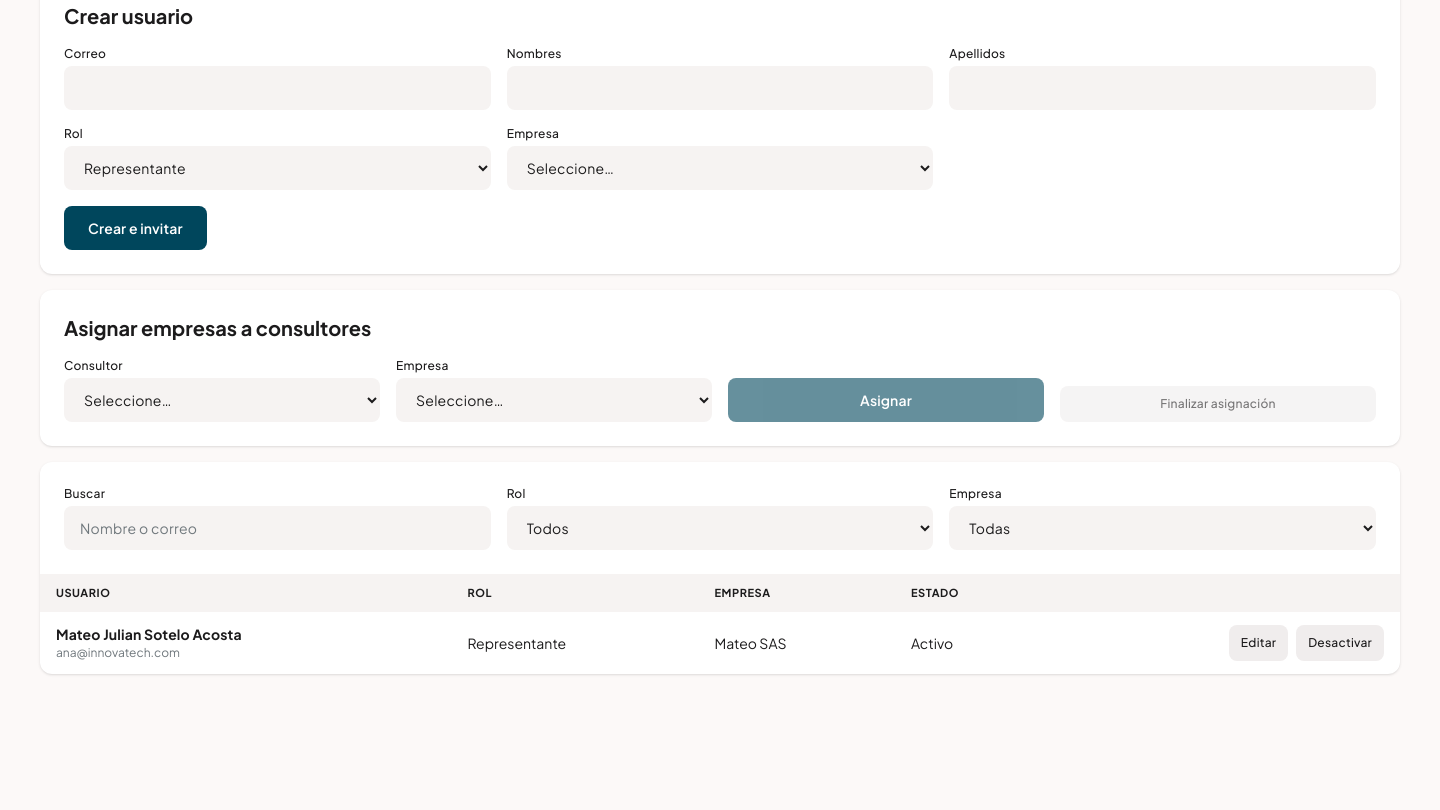
Test case: Edición de usuarios › abre un formulario propio con los datos actuales, sin cuadros del navegador
This screenshot has width=1440, height=810.
(page scrolled)
Expected: the text "Mateo Julian Sotelo Acosta" is shown, [56,625,242,643]
Click the button "Editar". click: (1259, 643)
box: [1229,625,1288,661]
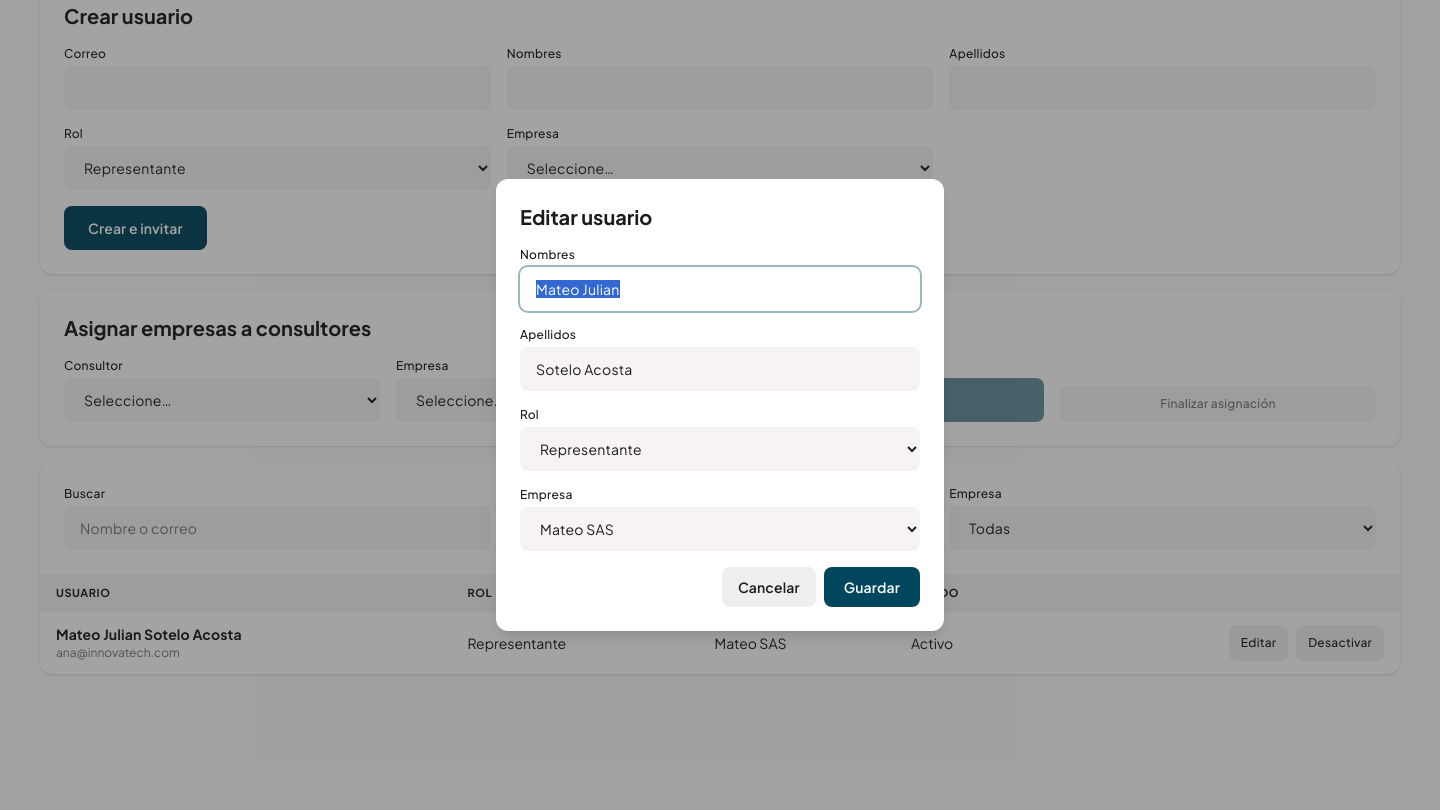
Now the field labelled "Nombres" holds "Mateo Julian", box [520,267,920,311]
Now the field labelled "Apellidos" holds "Sotelo Acosta", box [520,347,920,391]
